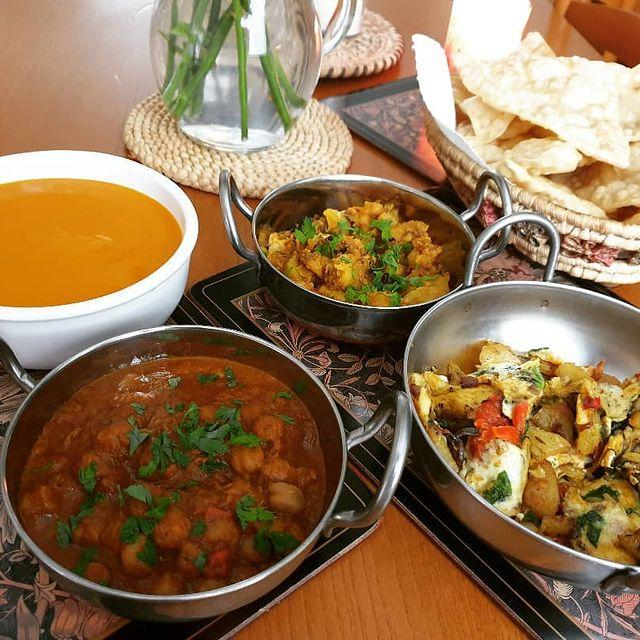Chole: (108, 432, 326, 593)
